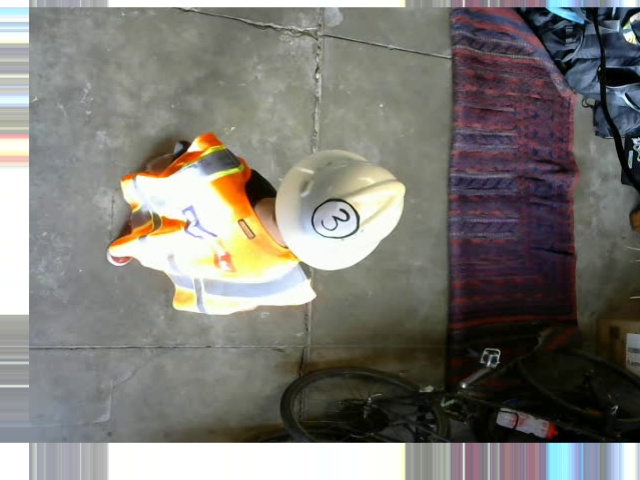three: (310, 197, 358, 237)
